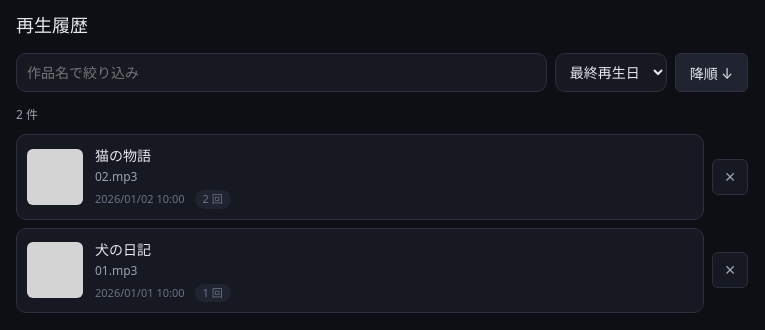
Test: HistoryPage 履歴削除 › 削除ボタン押下 → confirm OK で deleteHistory が呼ばれ、行が一覧から消える
The width and height of the screenshot is (765, 330).
Expected: the text "猫の物語" is shown, [95, 146, 151, 165]
Click the button named "この作品の履歴を削除": (730, 177) [712, 159, 748, 195]
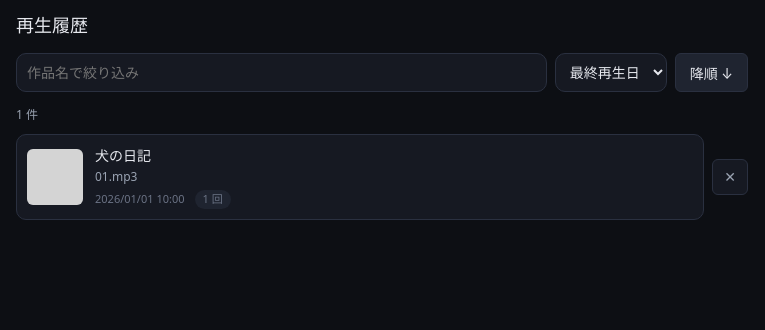
Expected: the text "犬の日記" is shown, [95, 146, 151, 165]
Result: the link "猫の物語" is gone
